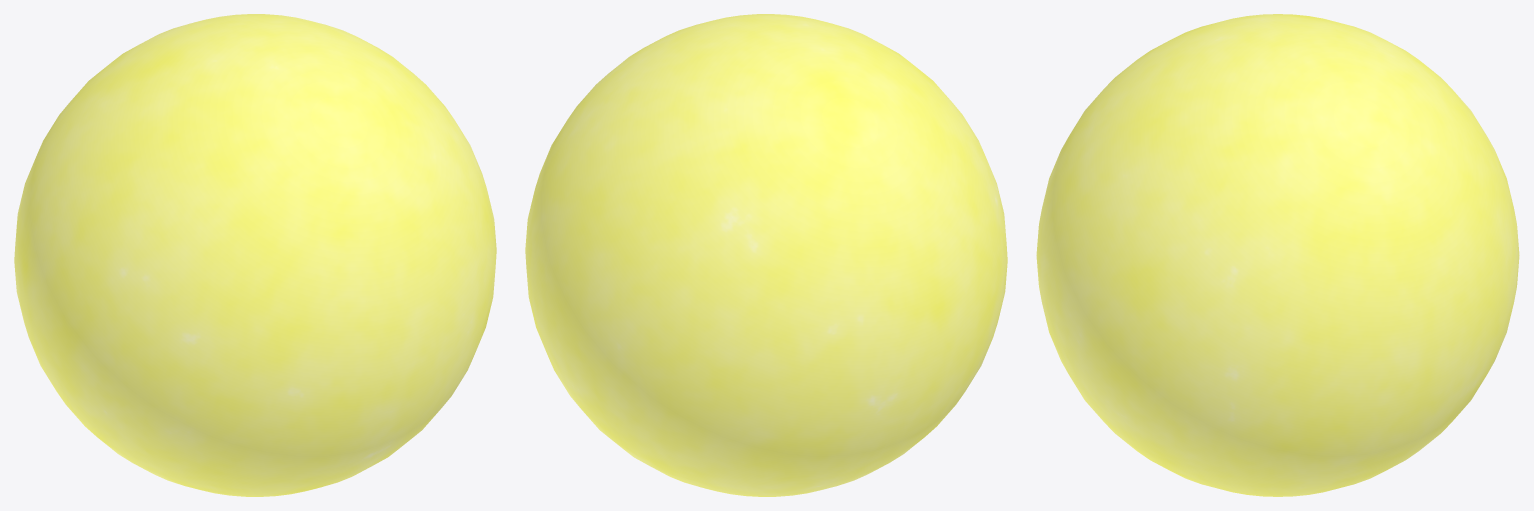
The model's file is sun.glb.
The picture shows the model from 3 angles, left to right: view 1: azimuth 30°, elevation 25°; view 2: azimuth 150°, elevation 25°; view 3: azimuth 270°, elevation 25°; orthographic projection.
Visible parts, largest first — view 1: Sun; view 2: Sun; view 3: Sun.
Boxes of the visible parts, x1,y1,x2,y2 form: Sun: (14, 14, 496, 496); Sun: (525, 14, 1007, 496); Sun: (1036, 14, 1519, 496).
Bounding box in the file's own units: 6 × 6 × 6.
1 material, 1 textured.
